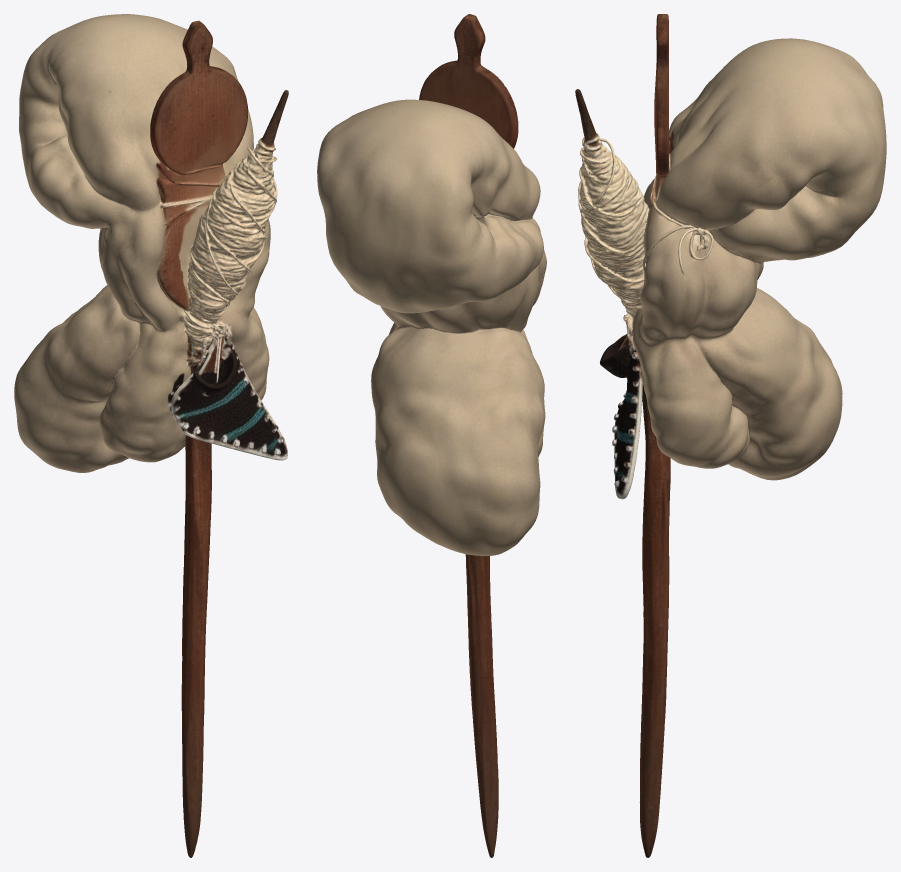
File: preslica-2.glb
3 views of the same model, side by side, from view 1: azimuth 30°, elevation 25°; view 2: azimuth 150°, elevation 25°; view 3: azimuth 270°, elevation 25° (orthographic). The views are drawn at different scales.
Bounding box in the file's own units: 0.4986 × 1.91 × 0.6332.
1 material, 1 textured.
